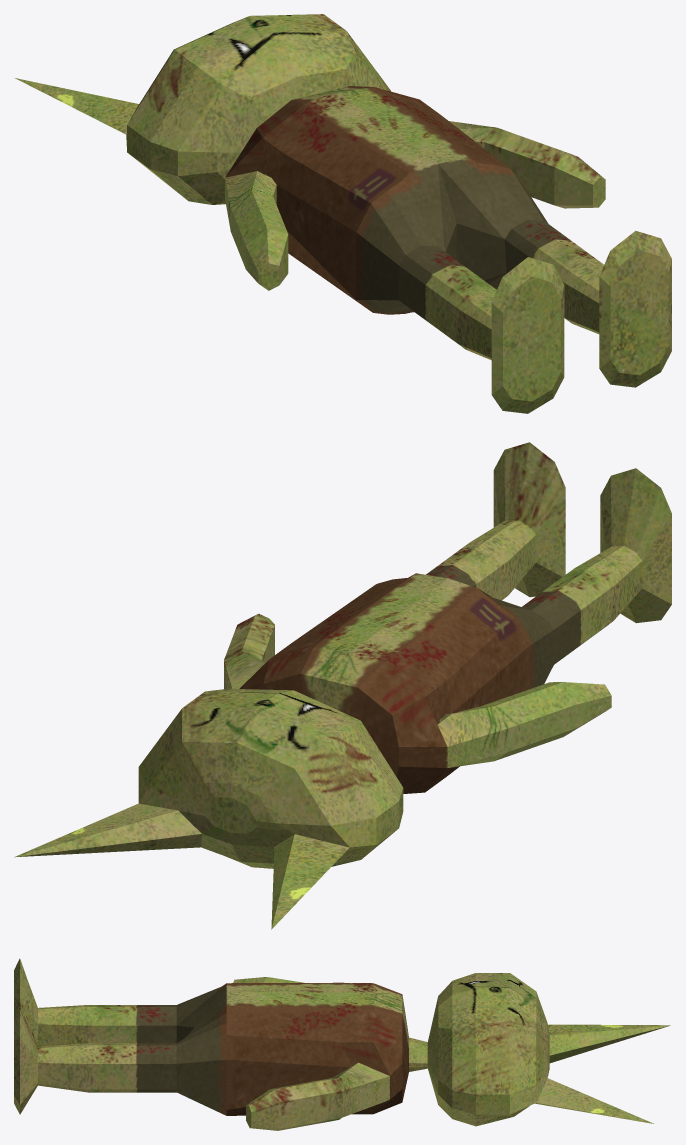
Rendered from GOBLINBB.obj.
The picture shows the model from 3 angles, top to bottom: view 1: azimuth 30°, elevation 25°; view 2: azimuth 150°, elevation 25°; view 3: azimuth 270°, elevation 25°; orthographic projection. The views are drawn at different scales.
Parts seen in each view (by area): view 1: Plane.000_Plane.005; view 2: Plane.000_Plane.005; view 3: Plane.000_Plane.005.
Boxes of the visible parts, x1,y1,x2,y2 form: Plane.000_Plane.005: [15, 14, 671, 413]; Plane.000_Plane.005: [14, 442, 671, 929]; Plane.000_Plane.005: [14, 958, 670, 1130].
Size of the model in its own units: 1.86 by 0.8864 by 4.03.
Materials: 1 (1 with a texture image).
